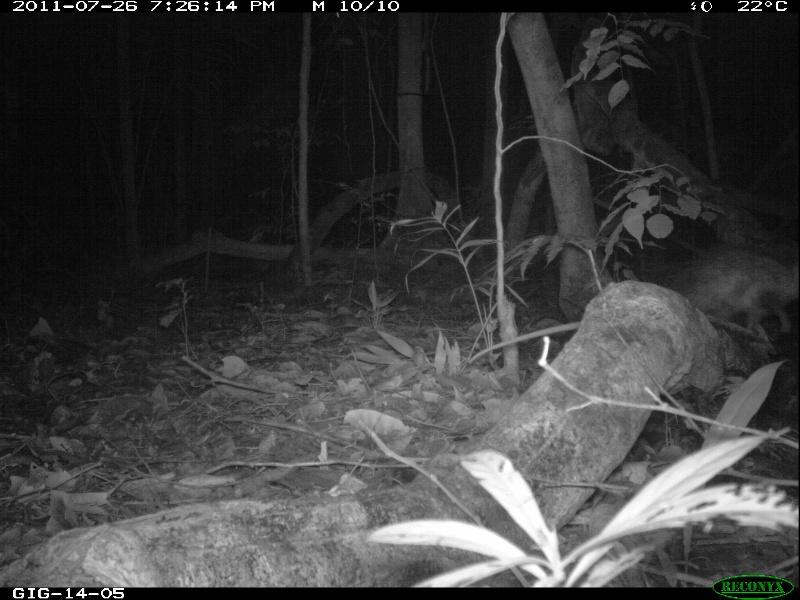opossum: (465, 248, 800, 371)
